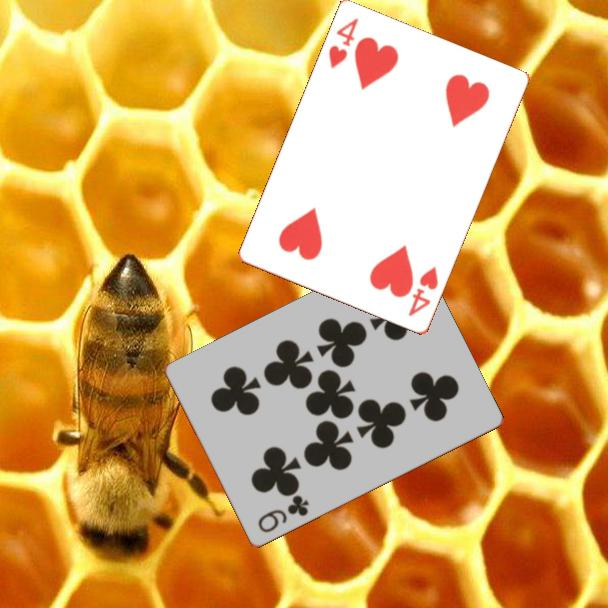c09: (254, 492, 312, 536)
h04: (325, 15, 362, 73), (405, 263, 441, 320)
